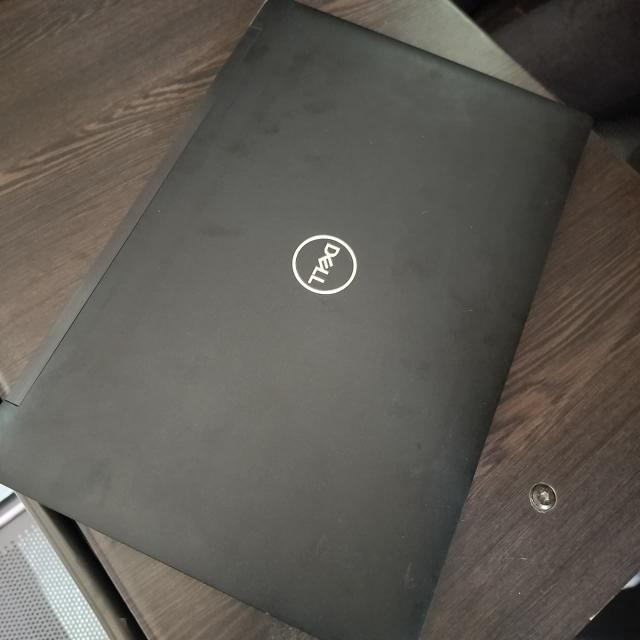laptop: (0, 14, 616, 622)
